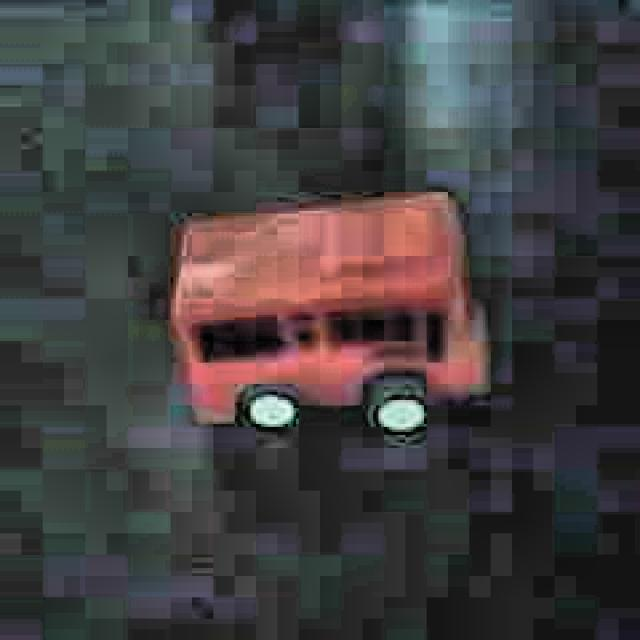bus: (163, 182, 492, 436)
